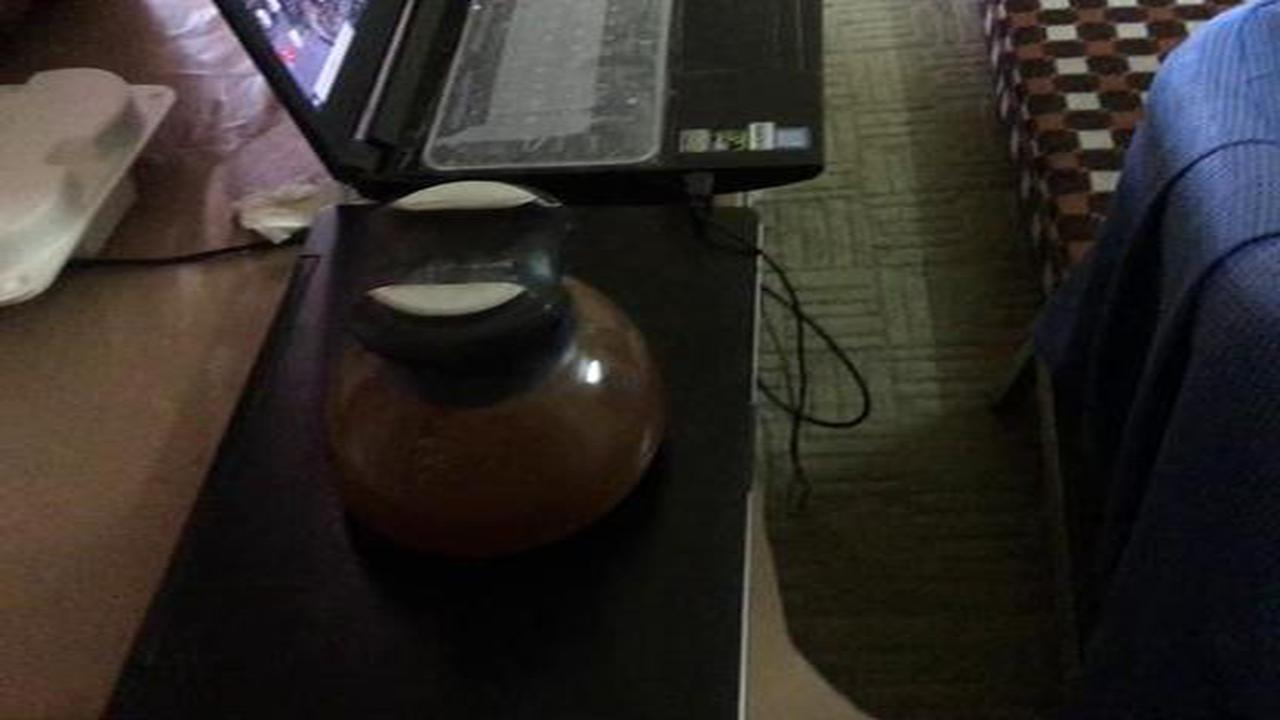insulator_pin: (302, 177, 693, 582)
